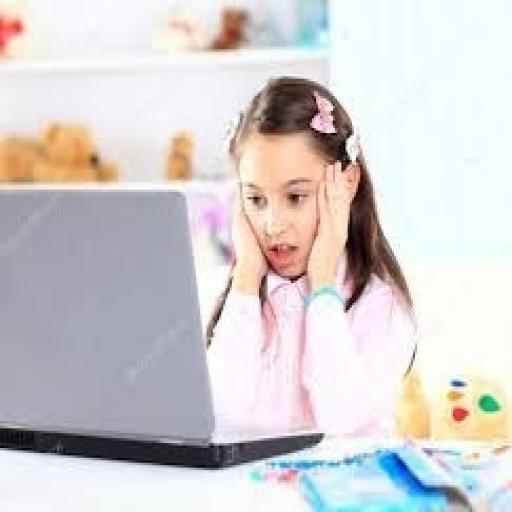using_laptop: (0, 179, 324, 470)
